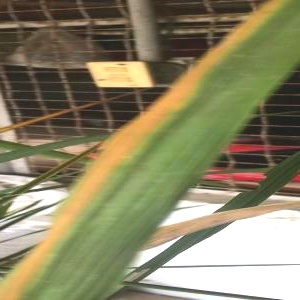Leaf_Blast: (48, 151, 183, 299)
